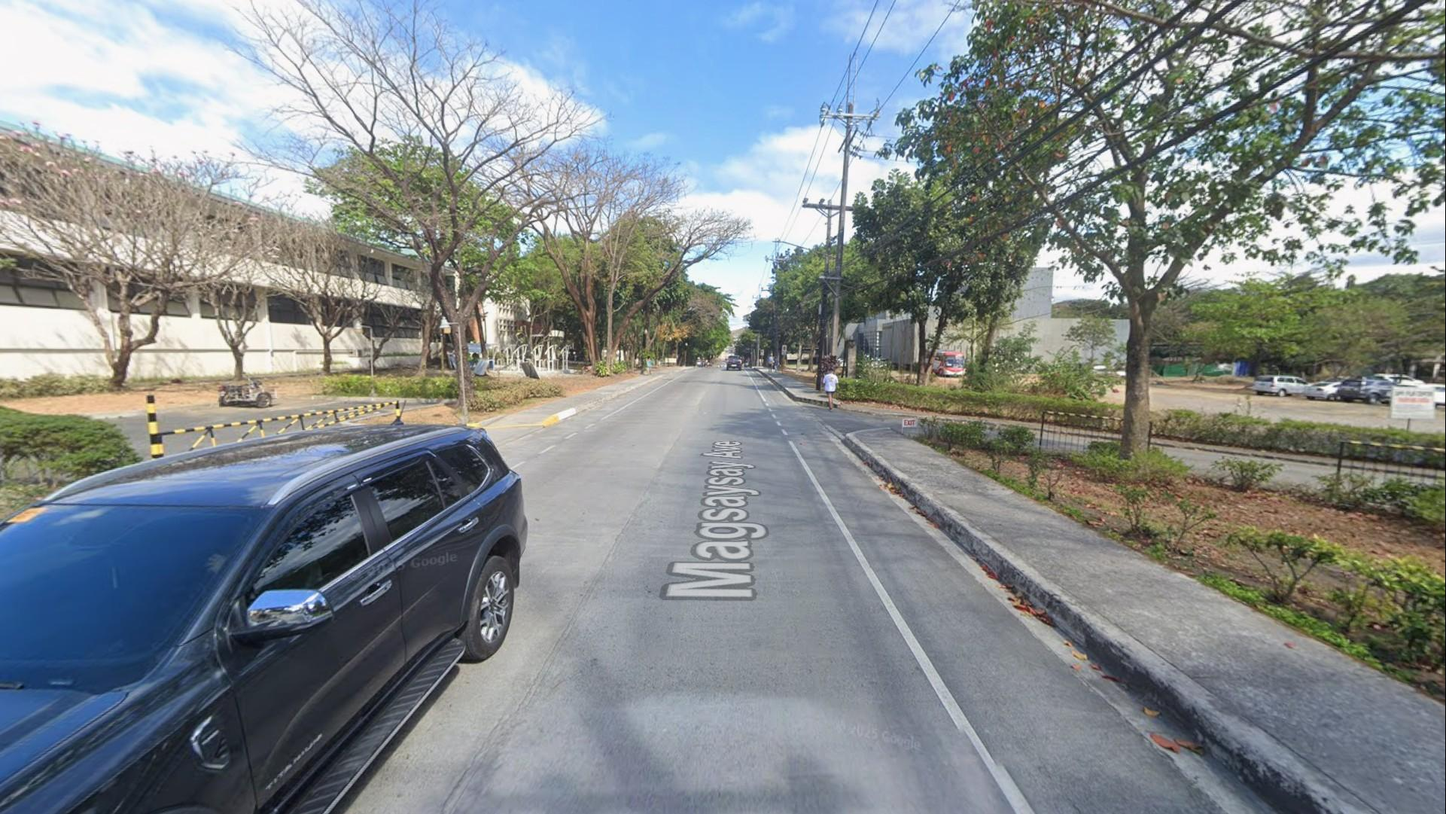pedestrian: (822, 367, 840, 412), (645, 355, 652, 376), (768, 352, 774, 374), (773, 355, 779, 373)
